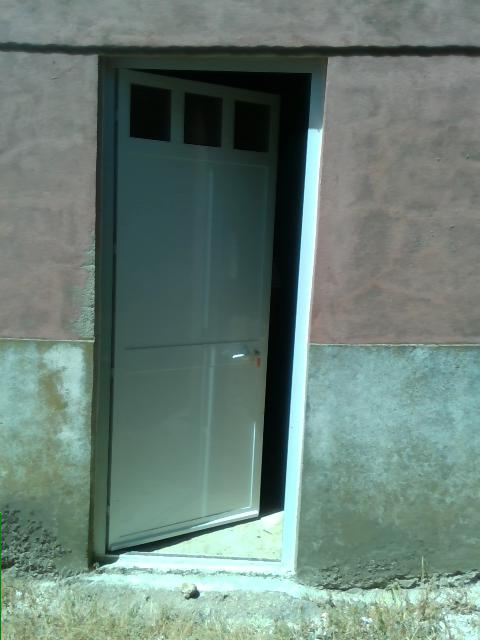semi_door: (87, 49, 323, 569)
